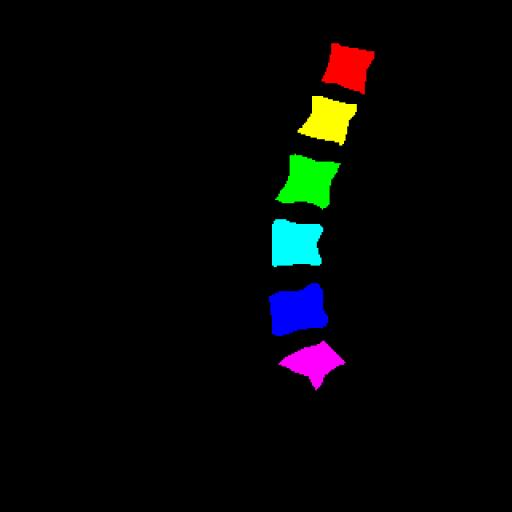L1: (322, 43, 374, 94)
L2: (298, 96, 357, 146)
L3: (276, 155, 340, 208)
L4: (272, 219, 324, 266)
L5: (269, 283, 328, 337)
S1: (279, 341, 345, 390)
